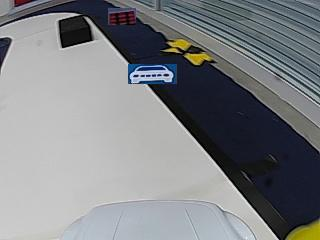block: (58, 15, 94, 49)
